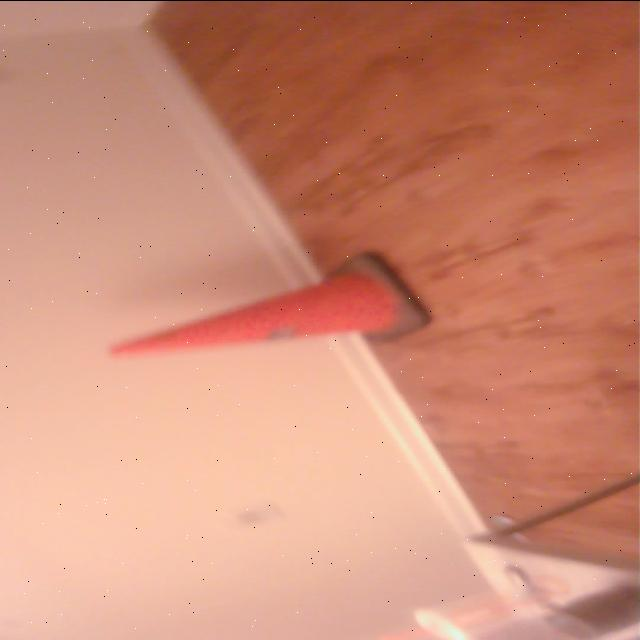traffic cone: (101, 248, 441, 362)
